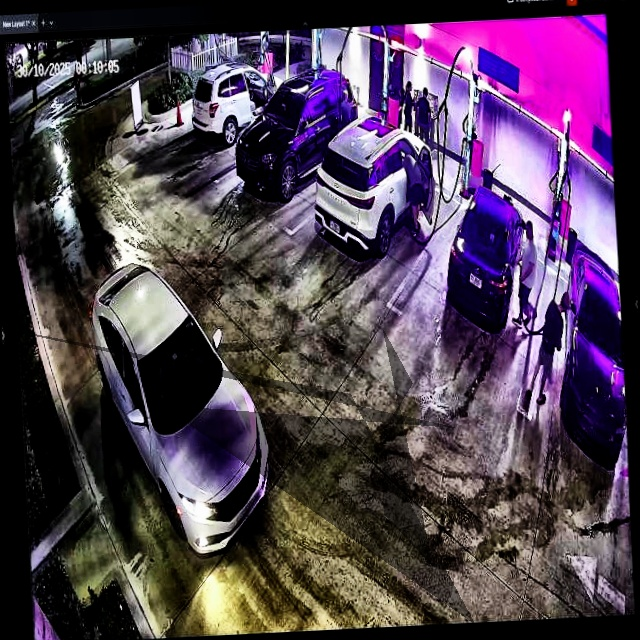Car: (88, 256, 275, 562), (311, 105, 439, 256), (231, 61, 362, 187), (441, 182, 533, 331), (188, 57, 289, 147)
